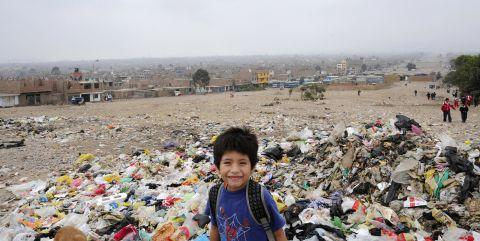garbage: (0, 114, 480, 241)
